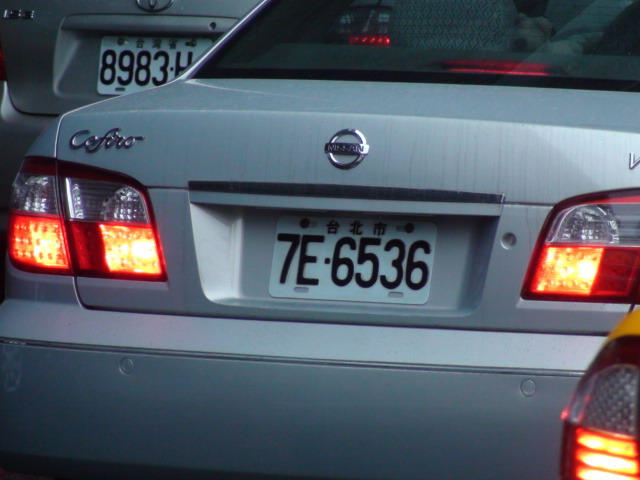plate: (270, 211, 438, 304), (94, 31, 209, 99)
